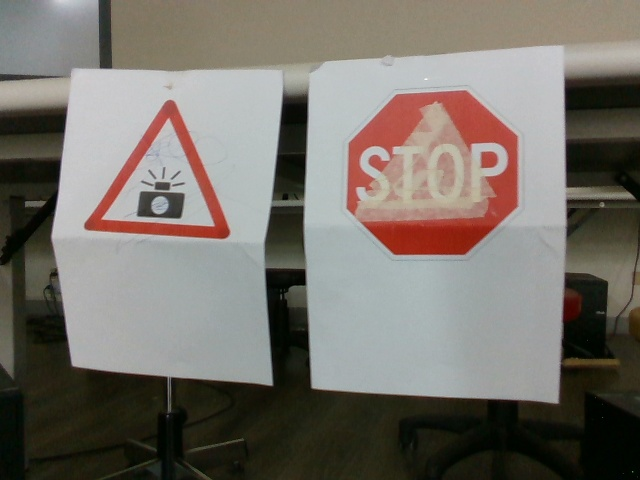camera: (88, 101, 228, 240)
stop: (347, 91, 521, 258)
